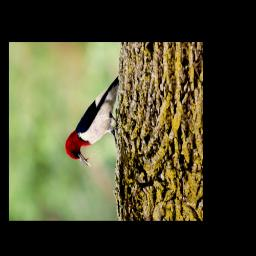Woodpecker: (64, 77, 119, 166)
